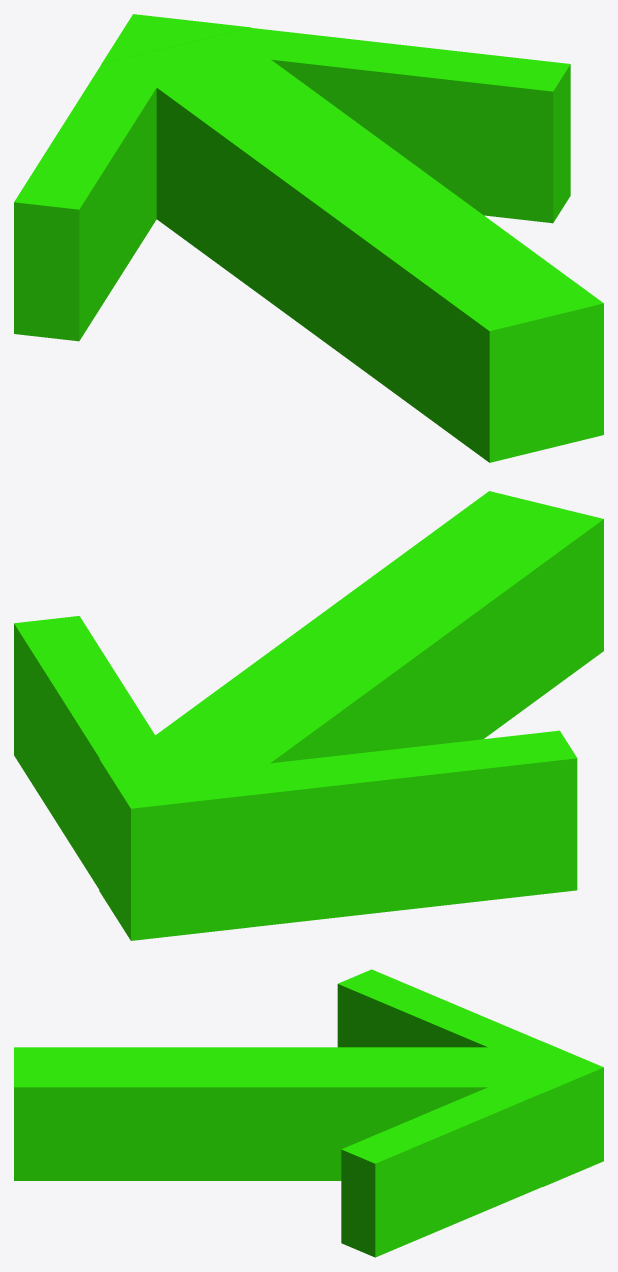
The model's file is arrow.glb.
3 views of the same model, one above another, from view 1: azimuth 30°, elevation 25°; view 2: azimuth 150°, elevation 25°; view 3: azimuth 270°, elevation 25° (orthographic). The views are drawn at different scales.
Parts seen in each view (by area): view 1: mergedBlocks(Clone); view 2: mergedBlocks(Clone); view 3: mergedBlocks(Clone).
Boxes of the visible parts, bbox=[...] form: mergedBlocks(Clone): bbox=[14, 14, 603, 462]; mergedBlocks(Clone): bbox=[14, 491, 603, 940]; mergedBlocks(Clone): bbox=[14, 969, 603, 1257].
Size of the model in its own units: 0.44 by 0.0991 by 0.5642.
